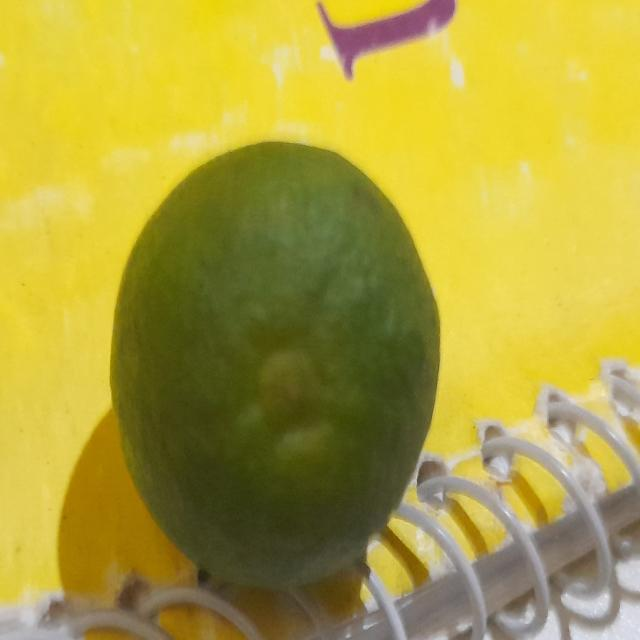heathy: (107, 138, 443, 586)
